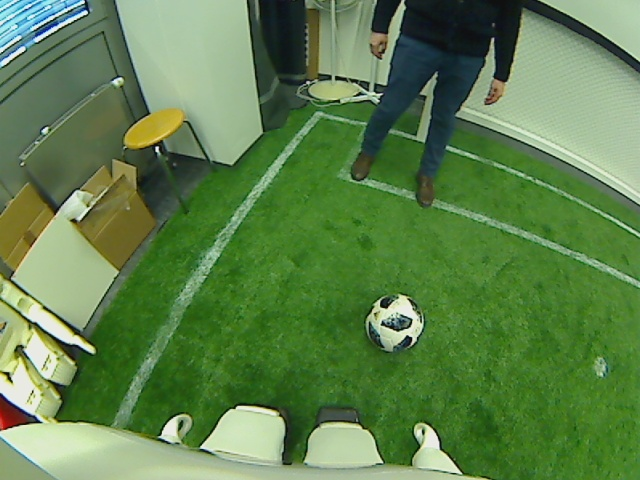ball: (362, 293, 426, 353)
